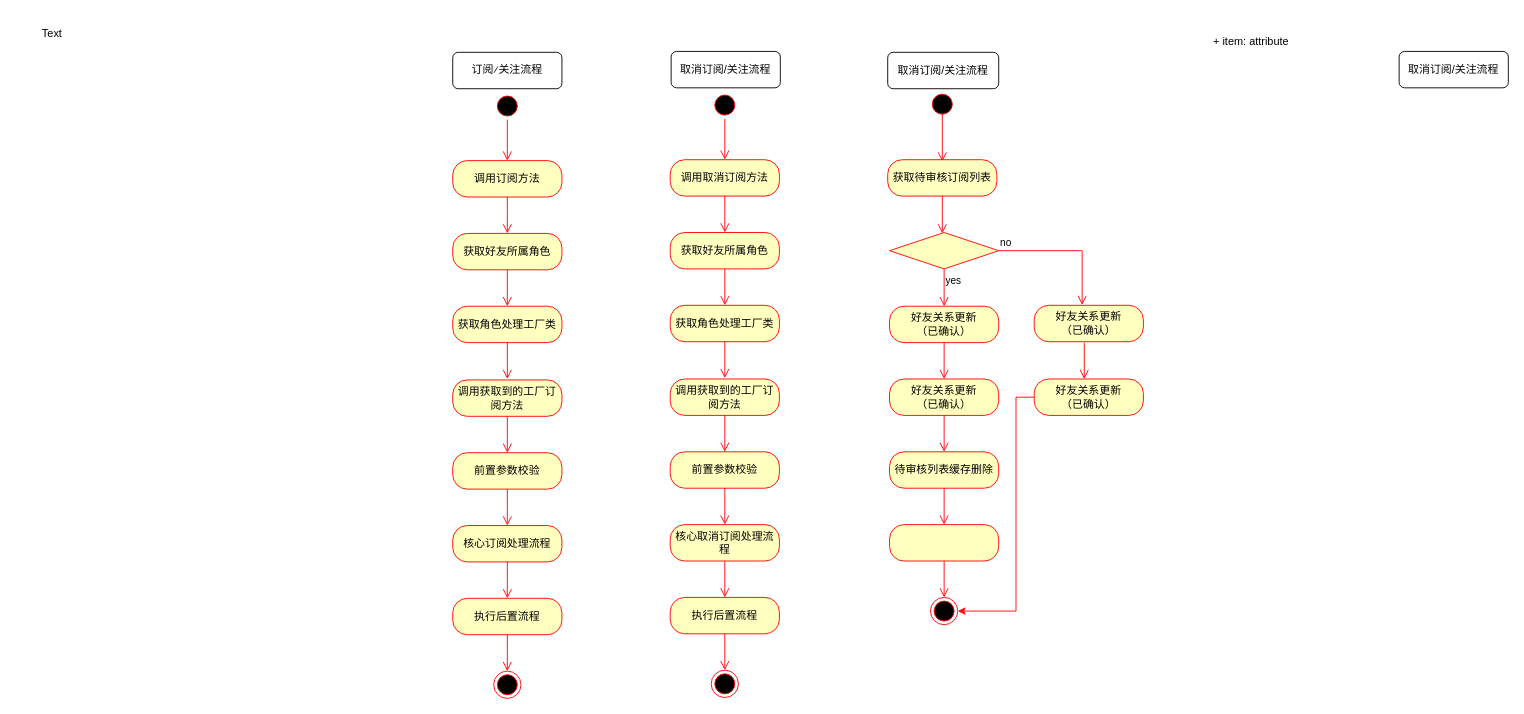
The diagram is 1524 pixels wide and 714 high, and some of its shapes have lost their labels. The centre of each missing label's shape, as x and y in pixels:
"同意/拒绝" belongs at (x=944, y=250).
"用户关系互刷" belongs at (x=944, y=542).
